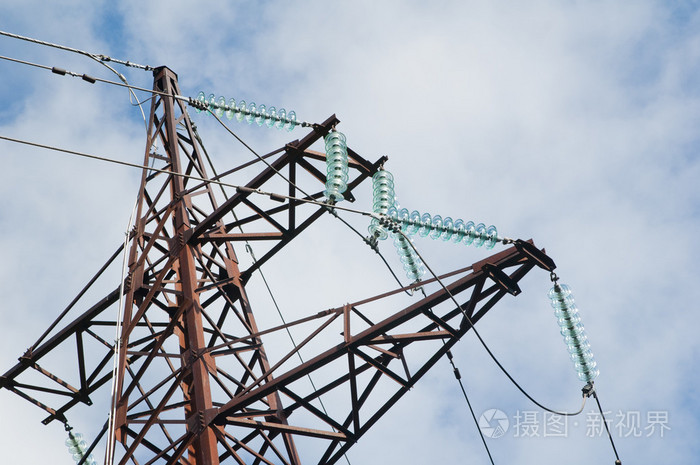insulator: (549, 285, 601, 381), (388, 208, 500, 247), (193, 94, 295, 130), (368, 170, 397, 240), (322, 130, 349, 202), (395, 237, 424, 280)
